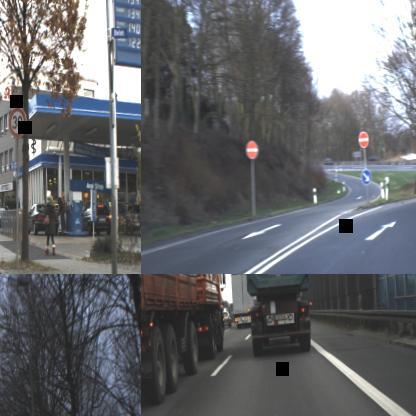NO ENTRY: (245, 140, 258, 160), (358, 131, 369, 149)
keep right: (361, 168, 372, 186)
speed limit 30: (8, 106, 28, 139)
